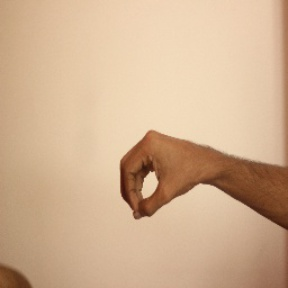O: (116, 126, 202, 224)
